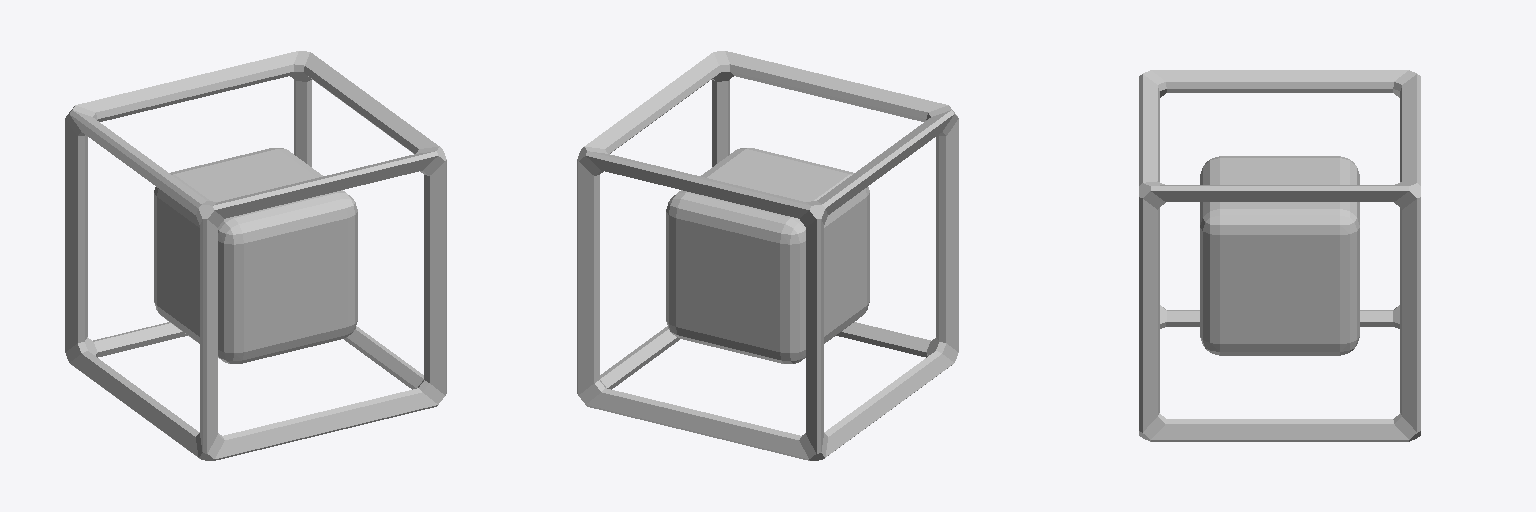
The model's file is cube-container.obj.
The picture shows the model from 3 angles: view 1: azimuth 30°, elevation 25°; view 2: azimuth 150°, elevation 25°; view 3: azimuth 270°, elevation 25°; orthographic projection.
Visible parts, largest first — view 1: Cube, Cube.001; view 2: Cube, Cube.001; view 3: Cube, Cube.001.
Boxes of the visible parts, <box> form: Cube: <box>65,51,446,460</box>; Cube.001: <box>154,148,357,363</box>; Cube: <box>577,51,958,460</box>; Cube.001: <box>666,148,869,363</box>; Cube: <box>1139,70,1420,441</box>; Cube.001: <box>1200,156,1359,355</box>.
Size of the model in its own units: 2.11 by 2.11 by 2.11.